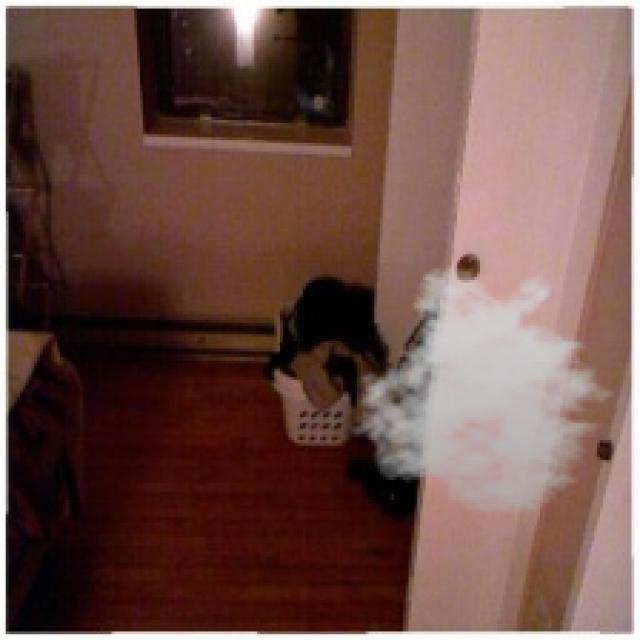Smoke: (348, 266, 632, 518)
